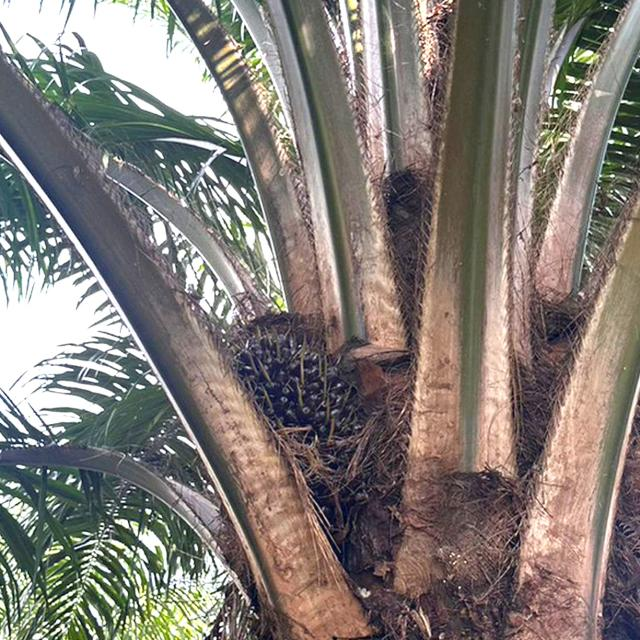ripe: (212, 308, 372, 513)
